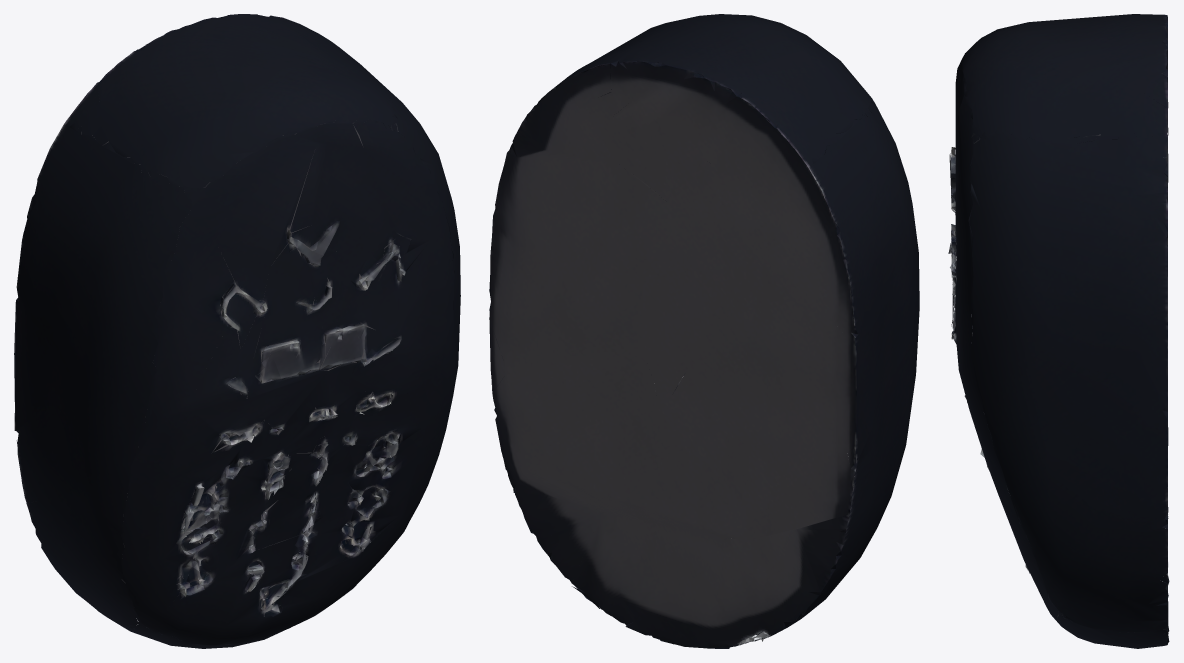
File: Forge_RuneStele.glb
3 renders of one model, left to right at view 1: azimuth 30°, elevation 25°; view 2: azimuth 150°, elevation 25°; view 3: azimuth 270°, elevation 25°, orthographic. The views are drawn at different scales.
Parts seen in each view (by area): view 1: Forge_RuneStele; view 2: Forge_RuneStele; view 3: Forge_RuneStele.
Boxes of the visible parts, x1,y1,x2,y2 form: Forge_RuneStele: (14,14,460,648); Forge_RuneStele: (489,14,919,648); Forge_RuneStele: (948,14,1169,648).
Size of the model in its own units: 1.06 by 1.6 by 0.5389.
Materials: 1 (1 with a texture image).
